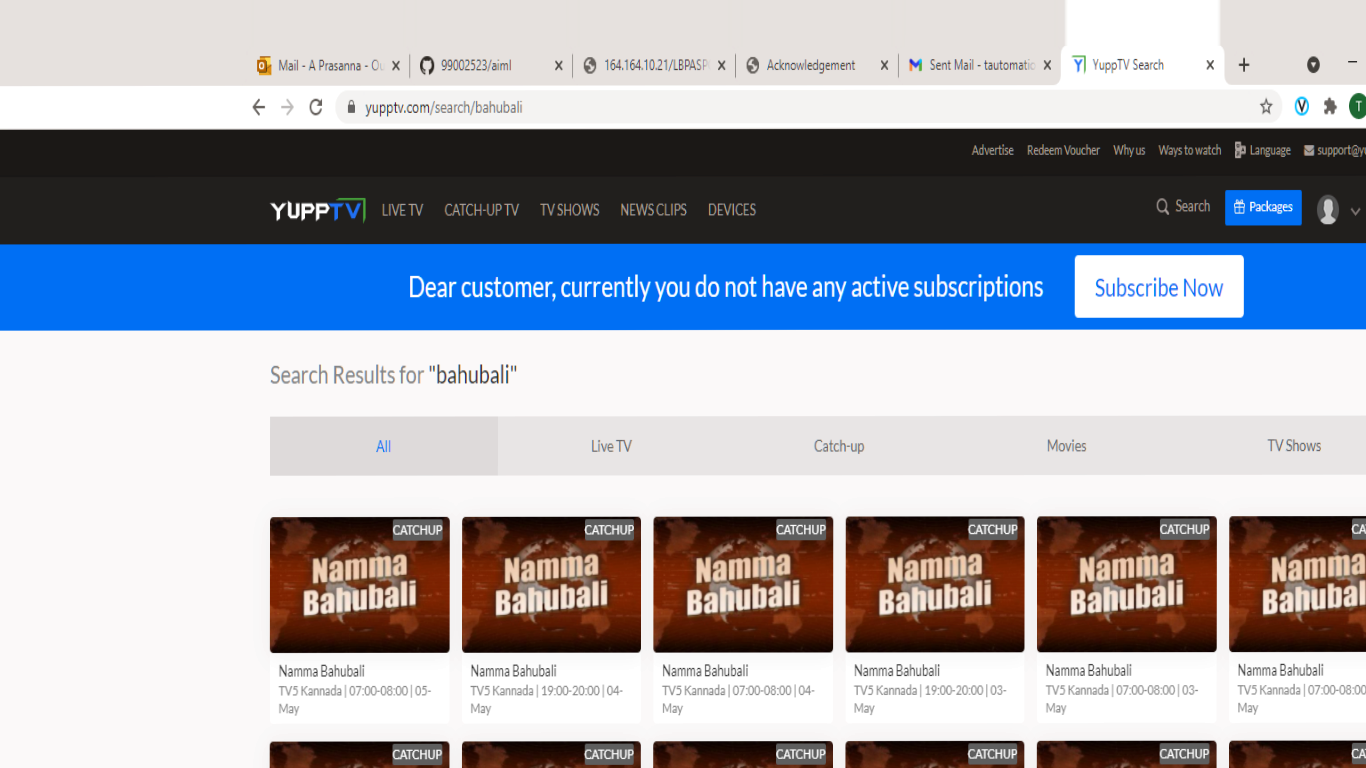profileicon: (1311, 182, 1366, 231)
resultsfound: (260, 348, 552, 412)
searchicon: (1152, 188, 1218, 223)
